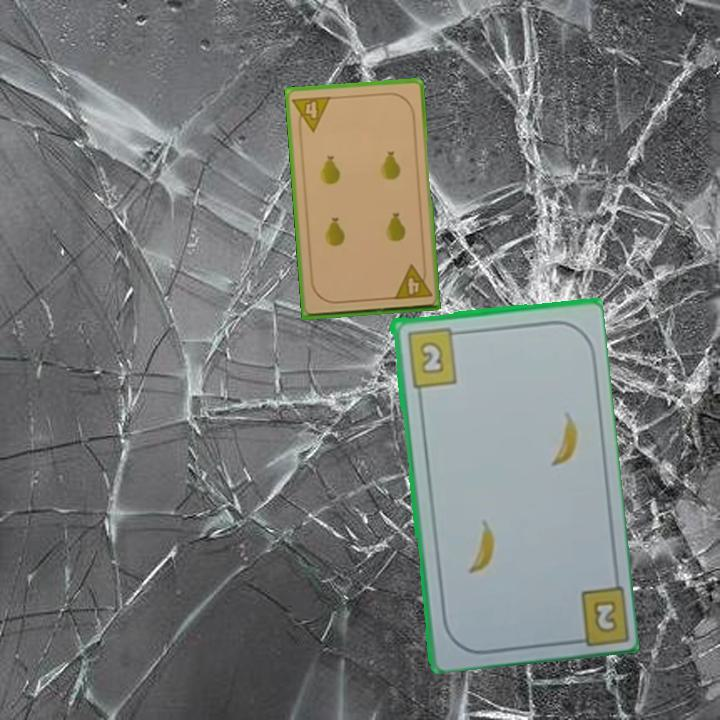2b: (403, 324, 464, 389), (589, 596, 620, 636)
4p: (289, 92, 334, 135), (390, 261, 434, 302)
